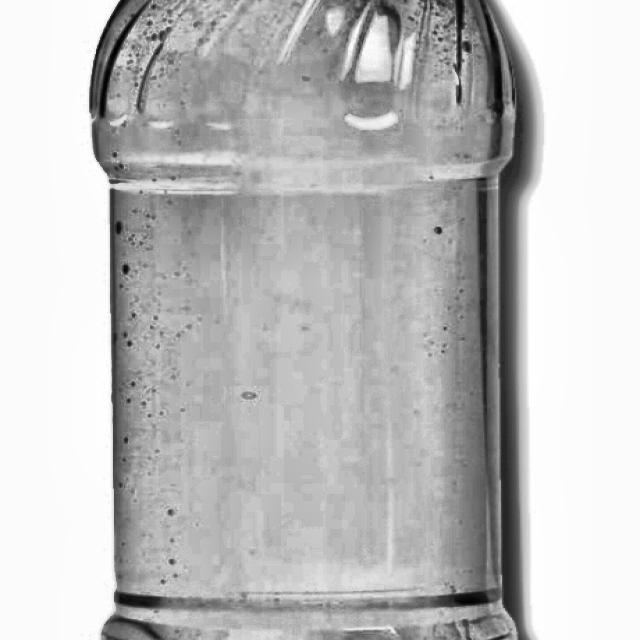bottle: (86, 0, 544, 640)
